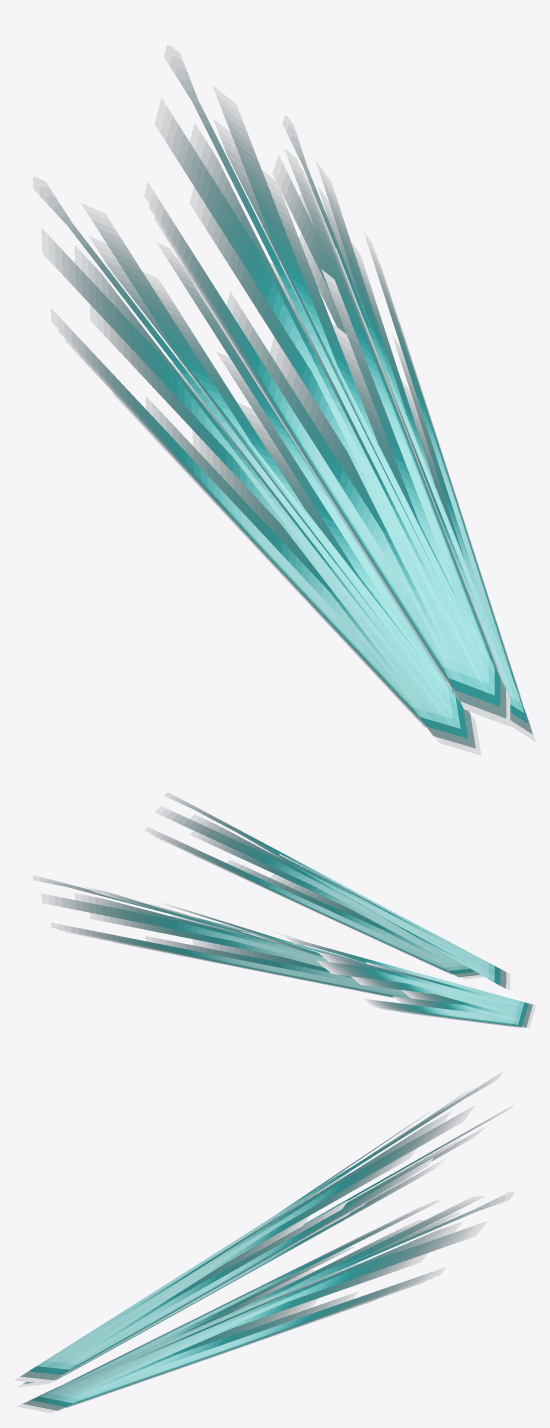
3 views of the same model, one above another, from view 1: azimuth 30°, elevation 25°; view 2: azimuth 150°, elevation 25°; view 3: azimuth 270°, elevation 25° (orthographic). The views are drawn at different scales.
Parts seen in each view (by area): view 1: layer_00_oe811U01, layer_01_oe811U01; view 2: layer_00_oe811U01, layer_01_oe811U01; view 3: layer_00_oe811U01, layer_01_oe811U01.
Part boxes in pixels (left/top/right/bottom): layer_00_oe811U01: left=53, top=79, right=531, bottom=748; layer_01_oe811U01: left=60, top=89, right=528, bottom=747; layer_00_oe811U01: left=84, top=802, right=532, bottom=1027; layer_01_oe811U01: left=98, top=805, right=532, bottom=1027; layer_00_oe811U01: left=21, top=1088, right=489, bottom=1409; layer_01_oe811U01: left=21, top=1094, right=481, bottom=1406.
Bounding box in the file's own units: 92.65 × 122 × 170.
Materials: 1 (1 with a texture image).
